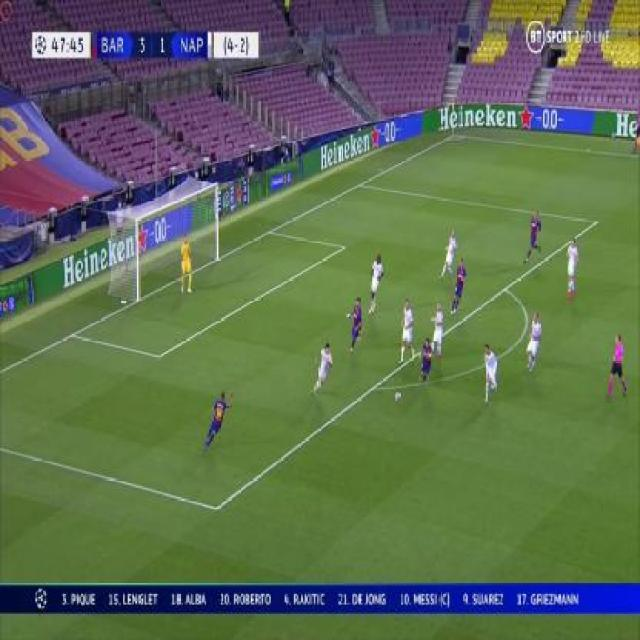ball: (394, 388, 402, 404)
player: (203, 390, 234, 450), (606, 332, 629, 400), (398, 297, 417, 363), (311, 342, 334, 396), (525, 309, 544, 372), (367, 252, 386, 314), (345, 296, 364, 355), (523, 208, 543, 264), (439, 228, 459, 282), (483, 339, 500, 401), (178, 231, 194, 296), (565, 235, 581, 298), (452, 258, 469, 314), (430, 299, 446, 358), (418, 338, 434, 386), (631, 110, 639, 153)
